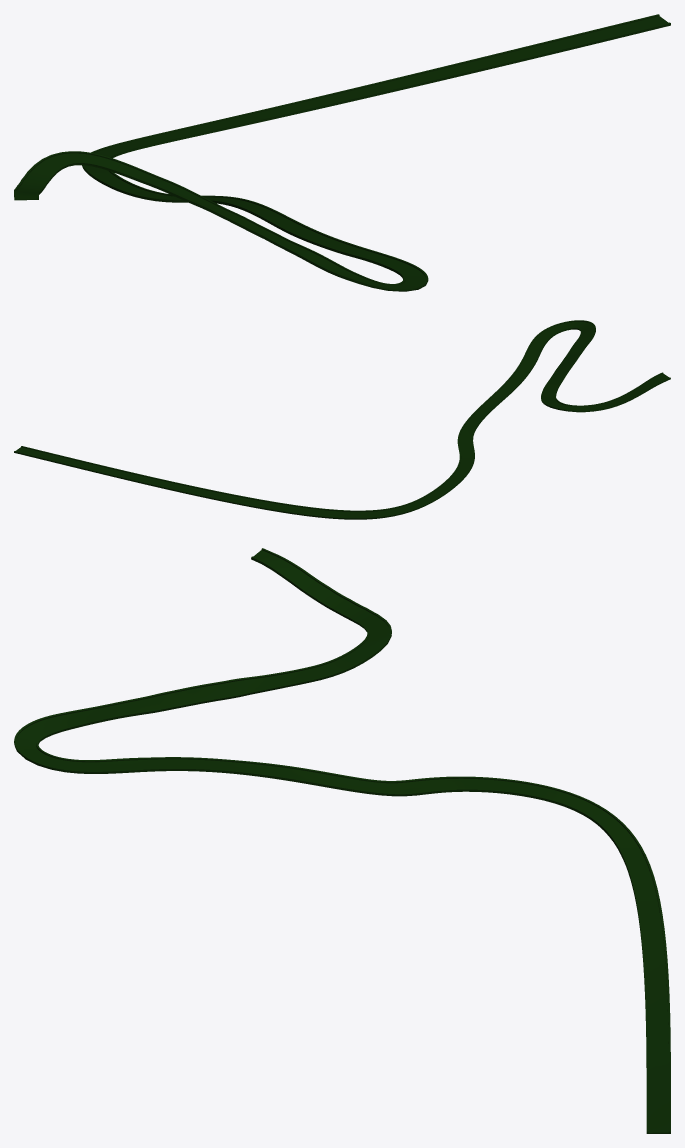
The model's file is Prototyp Strecke 2.fbx.
3 views of the same model, one above another, from view 1: azimuth 30°, elevation 25°; view 2: azimuth 150°, elevation 25°; view 3: azimuth 270°, elevation 25° (orthographic). The views are drawn at different scales.
Parts seen in each view (by area): view 1: Cube; view 2: Cube; view 3: Cube.
Boxes of the visible parts, x1=… form: Cube: x1=14, y1=14, x2=670, y2=291; Cube: x1=14, y1=320, x2=670, y2=519; Cube: x1=14, y1=548, x2=670, y2=1133.
Bounding box in the file's own units: 7959 × 1585 × 5381.
